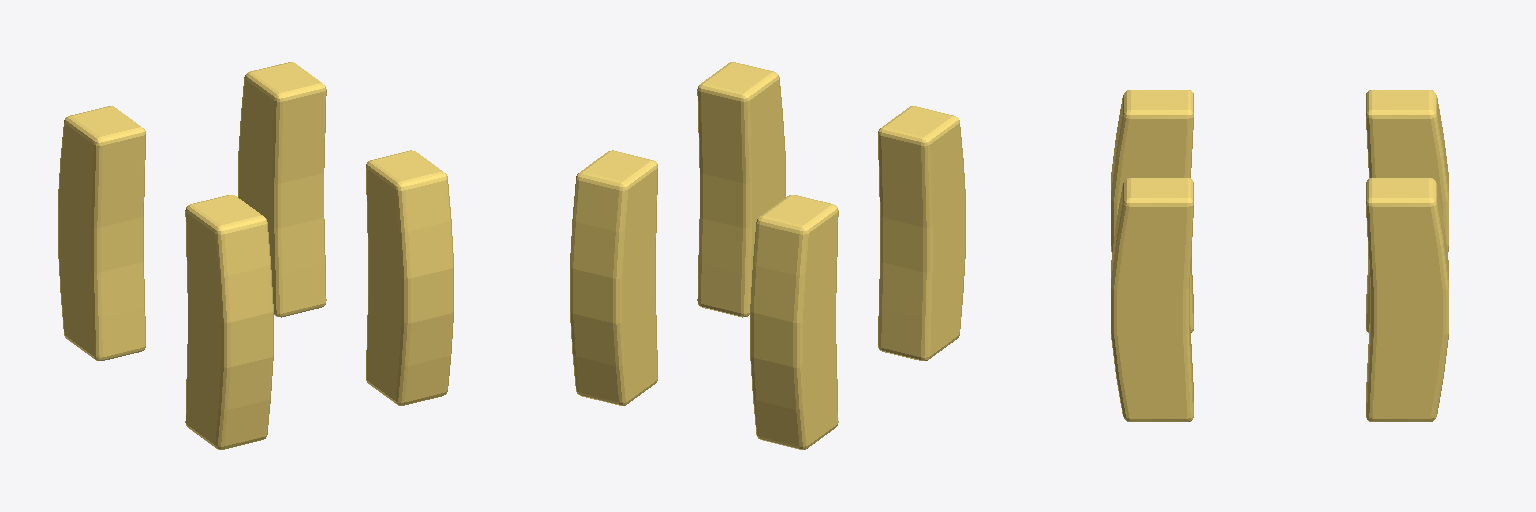
File: CreamLegs.obj
3 renders of one model, left to right at view 1: azimuth 30°, elevation 25°; view 2: azimuth 150°, elevation 25°; view 3: azimuth 270°, elevation 25°, orthographic.
Parts seen in each view (by area): view 1: Cream_Legs_Plane.006; view 2: Cream_Legs_Plane.006; view 3: Cream_Legs_Plane.006.
Boxes of the visible parts, x1,y1,x2,y2 form: Cream_Legs_Plane.006: [58, 62, 453, 449]; Cream_Legs_Plane.006: [570, 62, 965, 449]; Cream_Legs_Plane.006: [1111, 90, 1448, 421].
Size of the model in its own units: 0.3954 by 0.3649 by 0.5002.